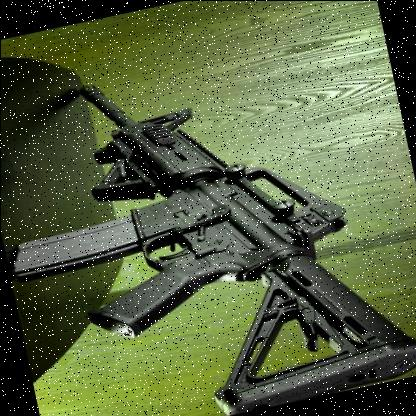rifle: (2, 17, 416, 416)
